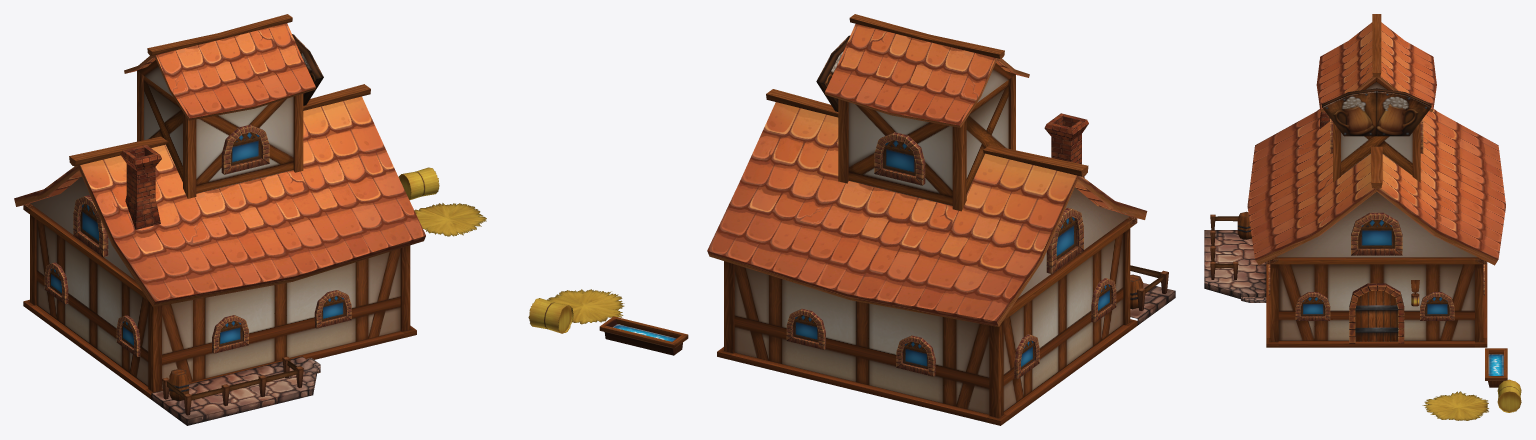
File: tavern.obj
3 views of the same model, side by side, from view 1: azimuth 30°, elevation 25°; view 2: azimuth 150°, elevation 25°; view 3: azimuth 270°, elevation 25° (orthographic). The views are drawn at different scales.
Parts seen in each view (by area): view 1: Fancy_tavern, Decor; view 2: Fancy_tavern, Decor; view 3: Fancy_tavern, Decor.
Part boxes in pixels (x1,y1,x2,y2): Fancy_tavern: (14, 14, 425, 399); Decor: (120, 34, 486, 425); Fancy_tavern: (707, 14, 1147, 425); Decor: (528, 35, 1175, 355); Fancy_tavern: (1247, 14, 1505, 347); Decor: (1204, 61, 1521, 420).
Bounding box in the file's own units: 4 × 2.35 × 2.73.
Materials: 2 (2 with a texture image).
